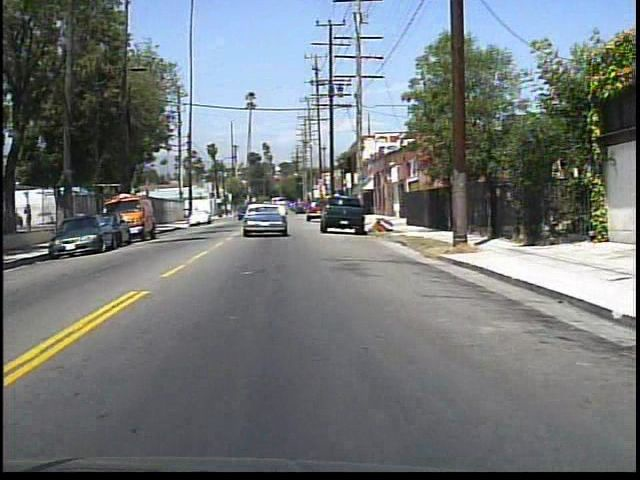person: (24, 202, 38, 233)
